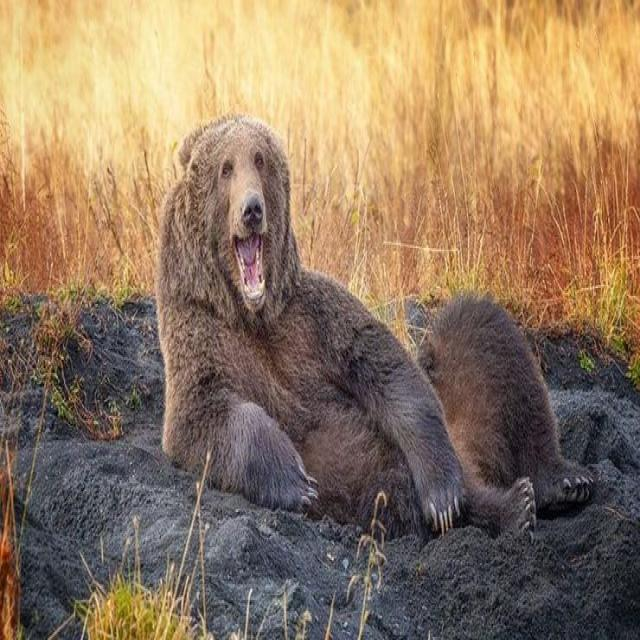Bear: (156, 118, 588, 538)
